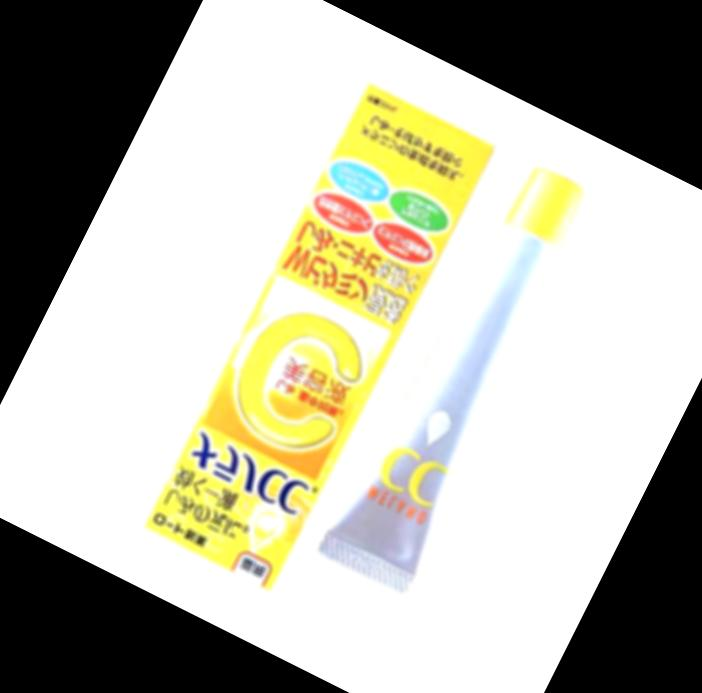cosmetic: (311, 150, 604, 597)
